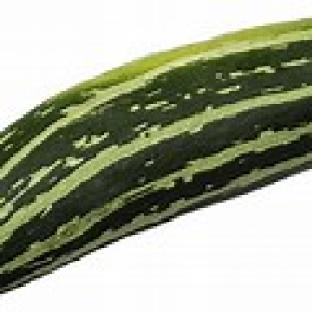Zucchini: (0, 21, 311, 291)
